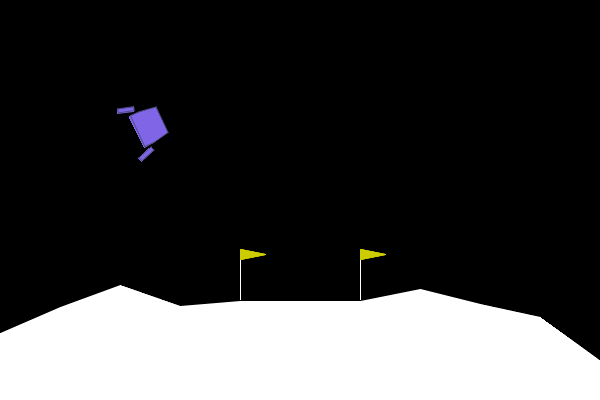lander: (115, 92, 176, 163)
